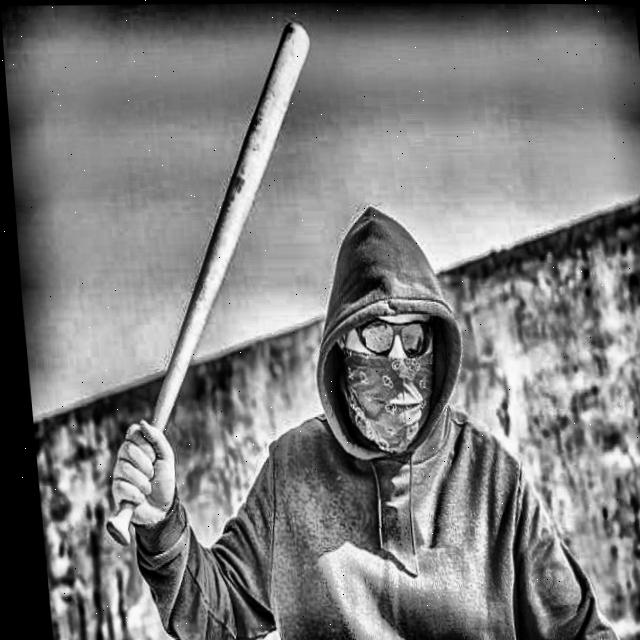robbery: (88, 178, 637, 640)
tongkat pemukul: (97, 13, 318, 605)
